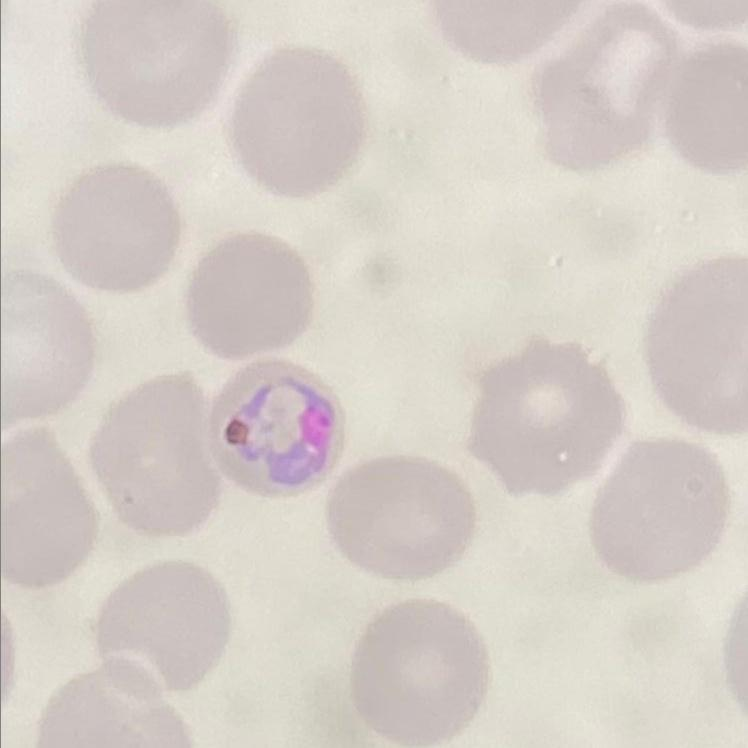Infected: (210, 353, 349, 496)
Uninfected: (468, 335, 629, 494), (538, 11, 670, 176), (350, 595, 490, 748), (226, 39, 361, 196), (82, 0, 242, 131), (90, 373, 219, 532), (324, 457, 481, 579), (642, 253, 748, 427), (596, 437, 719, 584), (96, 559, 222, 690), (48, 163, 174, 286), (186, 235, 311, 356), (4, 271, 98, 426), (0, 431, 99, 578), (32, 659, 191, 748)
